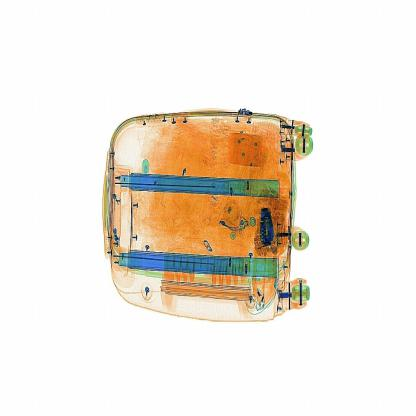scissors: (258, 203, 278, 251)
